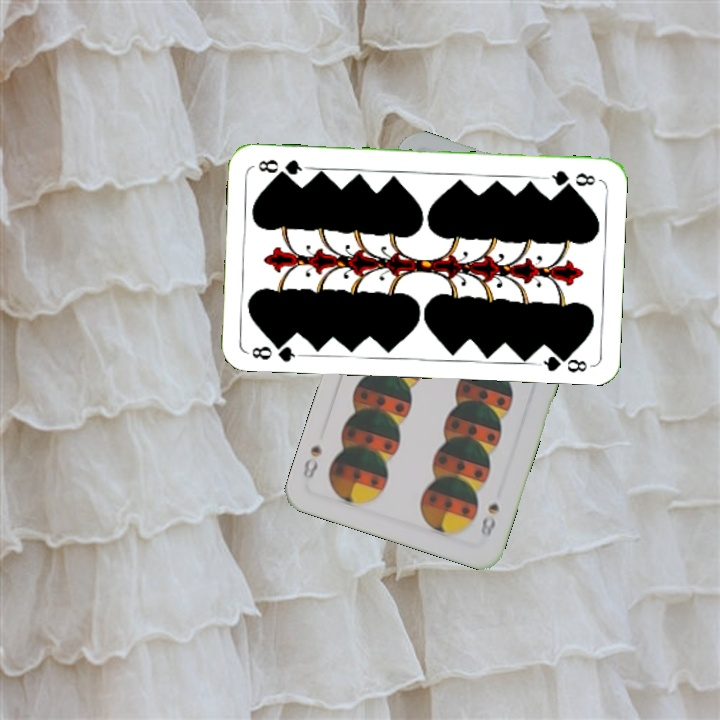G8: (245, 336, 304, 364), (542, 167, 598, 189)
S8: (476, 499, 502, 541)
